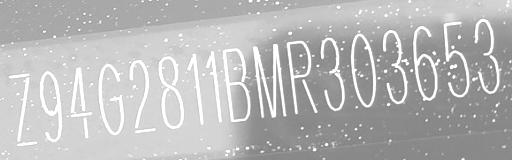letter: (251, 42, 287, 118), (284, 39, 318, 114), (220, 47, 252, 122), (441, 20, 471, 98), (410, 23, 440, 101), (8, 71, 38, 146), (348, 32, 378, 107), (156, 54, 186, 127), (472, 17, 500, 95), (96, 62, 126, 133), (380, 28, 408, 104), (128, 57, 156, 132), (318, 36, 346, 111), (68, 63, 94, 138), (38, 69, 64, 143), (185, 50, 205, 125), (203, 48, 223, 123)
